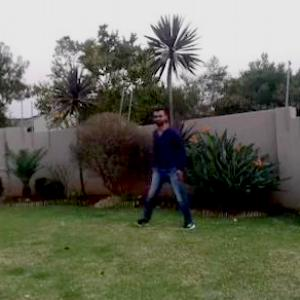follow: (151, 100, 184, 214)
